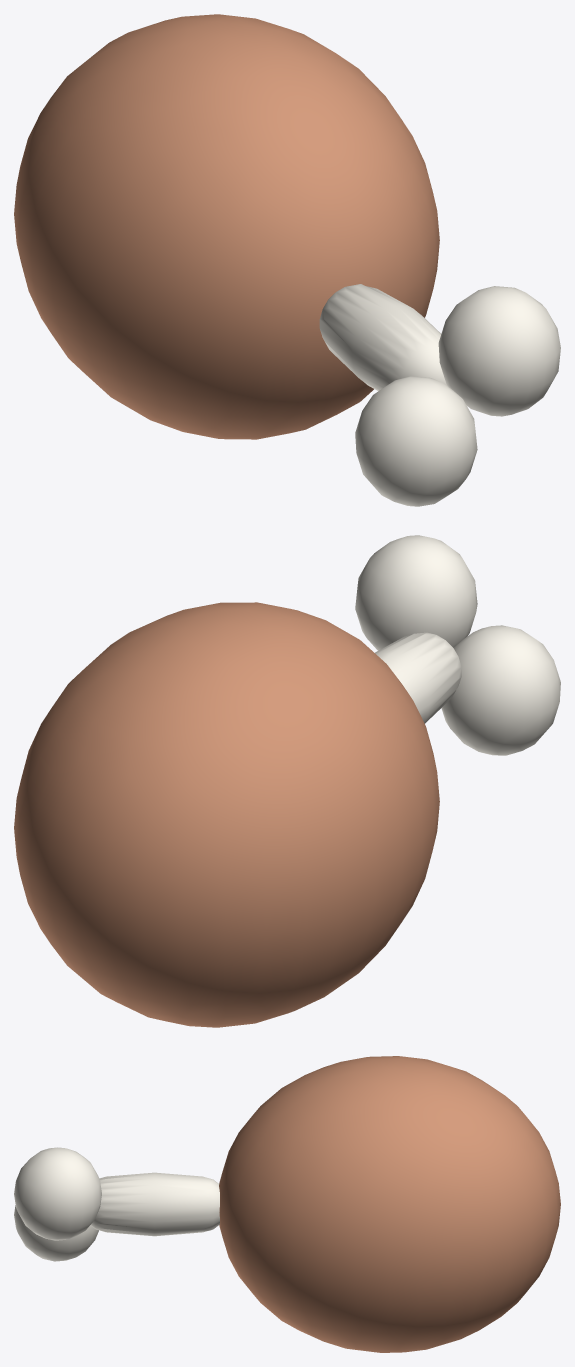
The model's file is item_meat.glb.
3 views of the same model, one above another, from view 1: azimuth 30°, elevation 25°; view 2: azimuth 150°, elevation 25°; view 3: azimuth 270°, elevation 25° (orthographic). The views are drawn at different scales.
Parts seen in each view (by area): view 1: item_meat; view 2: item_meat; view 3: item_meat.
Part boxes in pixels (bbox=[...]): item_meat: bbox=[14, 14, 560, 506]; item_meat: bbox=[14, 535, 560, 1027]; item_meat: bbox=[14, 1056, 560, 1352].
Size of the model in its own units: 0.2109 by 0.2176 by 0.3966.
